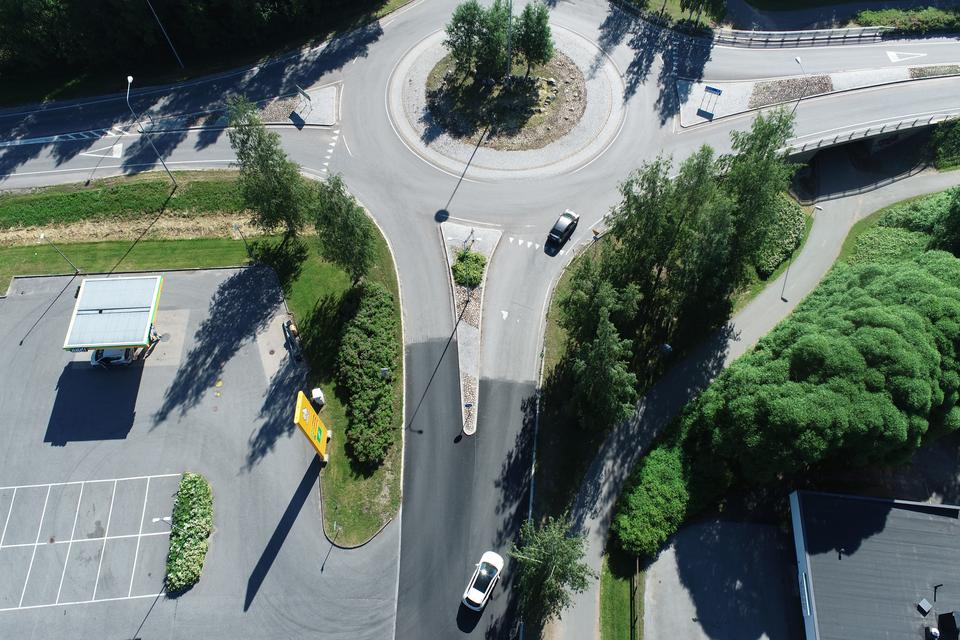intersection: (184, 486, 493, 640)
roundabout: (298, 0, 692, 327)
